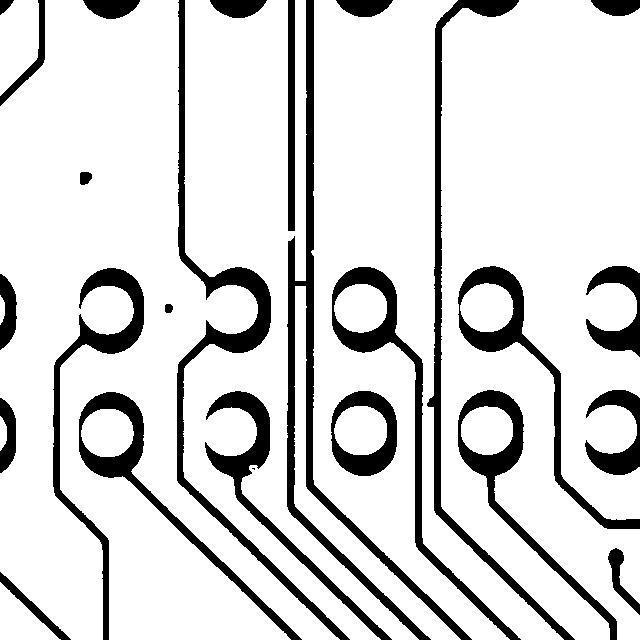copper: (70, 162, 101, 194), (155, 294, 182, 322)
mousebite: (239, 455, 267, 482), (301, 240, 324, 265)
open: (274, 221, 306, 250)
short: (280, 271, 317, 295)
spur: (417, 386, 448, 416)
